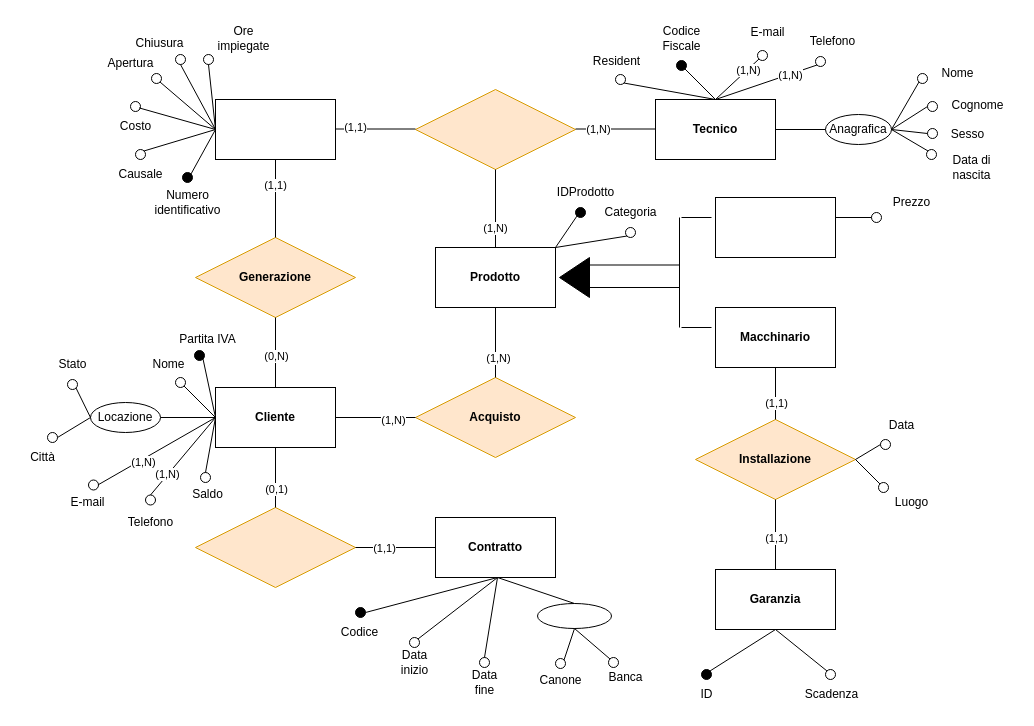
Some shapes in this 1034 by 726 pixel diagram are drawn without their labels. Here are the shapes that lost their labels. From the top down, the box of each, then its label:
(214, 98, 336, 160): Ticket
(414, 88, 576, 170): Assistenza
(714, 196, 836, 258): Consumabile
(194, 506, 356, 588): Stipulazione
(536, 602, 612, 628): Pagamento
